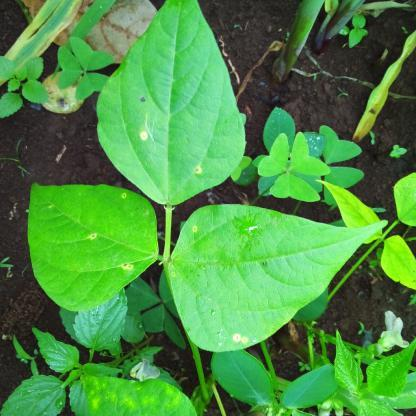Beans_Rust: (167, 202, 388, 353), (98, 0, 245, 201), (28, 177, 162, 313), (78, 370, 198, 416)
